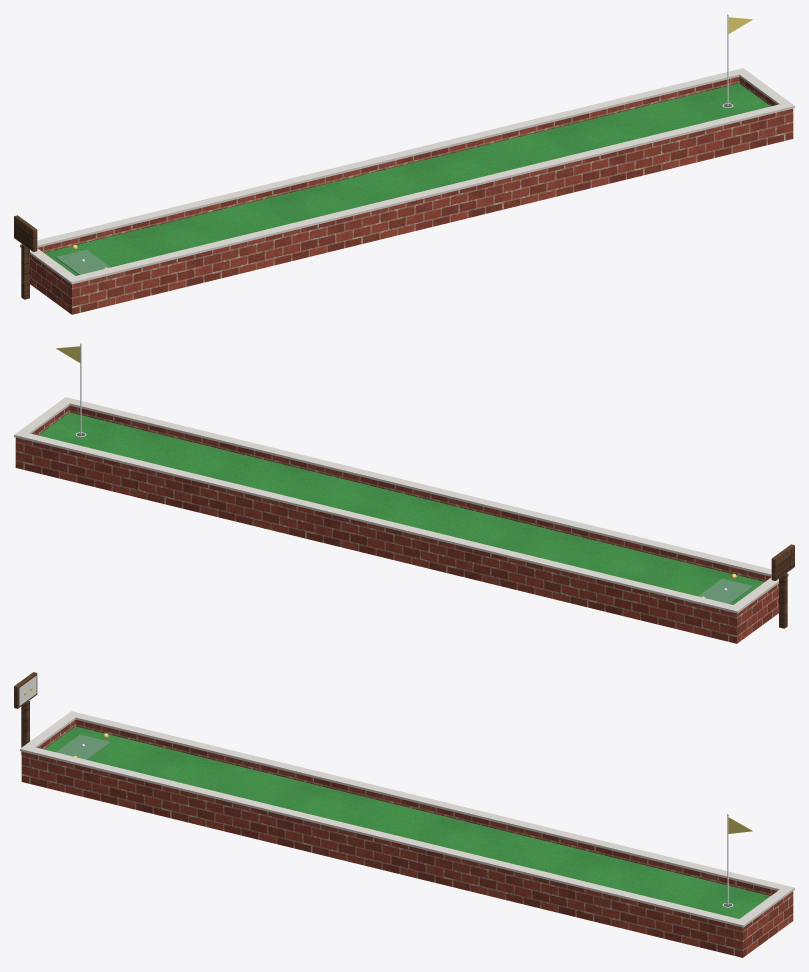
File: hole_2.glb
The picture shows the model from 3 angles, top to bottom: view 1: azimuth 30°, elevation 25°; view 2: azimuth 150°, elevation 25°; view 3: azimuth 330°, elevation 25°; orthographic projection.
Visible parts, largest first — view 1: hole_2_brick, hole_2_turf, hole_2_coping, hole_2_dkwood, hole_2_tee_m; view 2: hole_2_brick, hole_2_turf, hole_2_coping, hole_2_dkwood, hole_2_tee_m; view 3: hole_2_brick, hole_2_turf, hole_2_coping, hole_2_tee_m, hole_2_dkwood, hole_2_paint_w.
Part boxes in pixels (left/top/right/bottom): hole_2_brick: left=30, top=76, right=793, bottom=314; hole_2_turf: left=44, top=83, right=770, bottom=275; hole_2_coping: left=20, top=68, right=794, bottom=284; hole_2_dkwood: left=14, top=215, right=37, bottom=299; hole_2_tee_m: left=55, top=249, right=110, bottom=274; hole_2_brick: left=15, top=405, right=778, bottom=643; hole_2_turf: left=38, top=412, right=764, bottom=604; hole_2_coping: left=14, top=397, right=788, bottom=613; hole_2_dkwood: left=771, top=544, right=794, bottom=628; hole_2_tee_m: left=698, top=578, right=753, bottom=603; hole_2_brick: left=21, top=719, right=793, bottom=957; hole_2_turf: left=44, top=726, right=770, bottom=918; hole_2_coping: left=20, top=711, right=794, bottom=927; hole_2_tee_m: left=56, top=734, right=110, bottom=759; hole_2_dkwood: left=14, top=672, right=37, bottom=754; hole_2_paint_w: left=19, top=676, right=733, bottom=907.
Bounding box in the file's own units: 10.59 × 1.57 × 1.27.
Materials: 10 (4 with a texture image).
